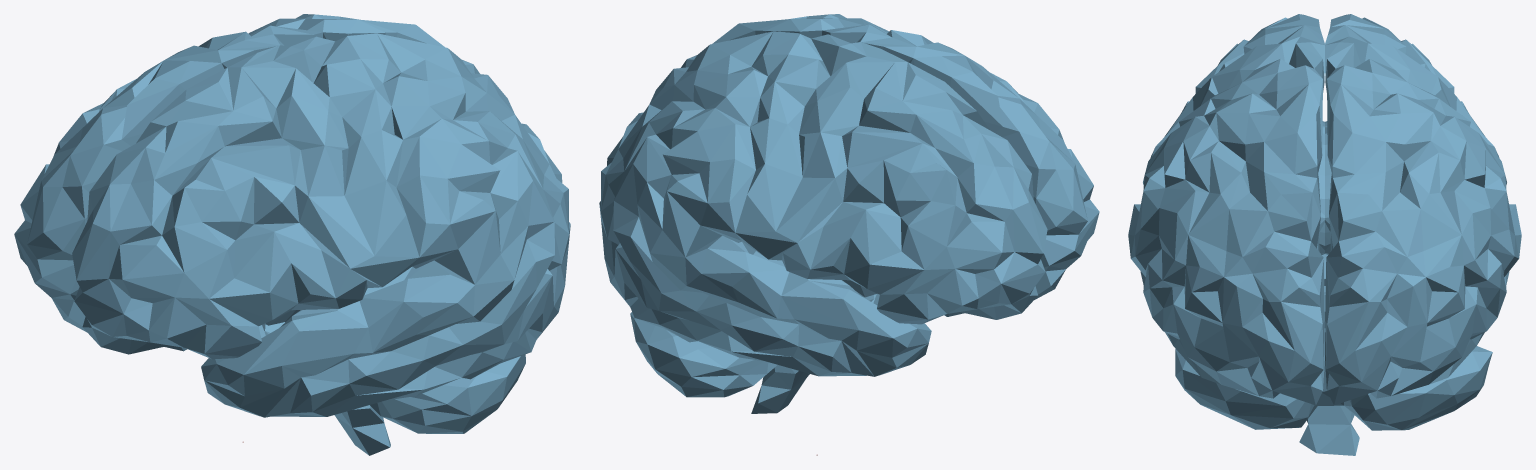
Rendered from body_organs.glb.
The picture shows the model from 3 angles, left to right: view 1: azimuth 30°, elevation 25°; view 2: azimuth 150°, elevation 25°; view 3: azimuth 270°, elevation 25°; orthographic projection. The views are drawn at different scales.
Parts seen in each view (by area): view 1: BRAIN; view 2: BRAIN; view 3: BRAIN.
Boxes of the visible parts, box(x1,y1,x2,y2) form: BRAIN: box(14, 14, 570, 455); BRAIN: box(599, 14, 1099, 413); BRAIN: box(1128, 14, 1521, 455).
Bounding box in the file's own units: 128 × 109 × 103.
